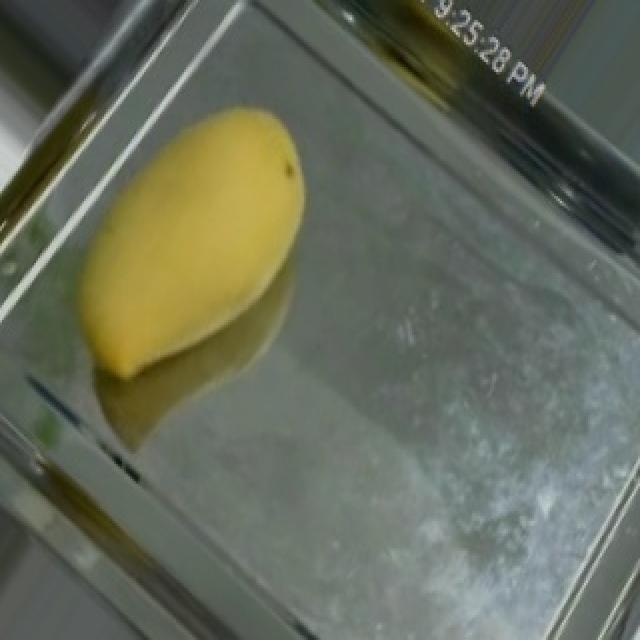fruit: (26, 49, 384, 422)
